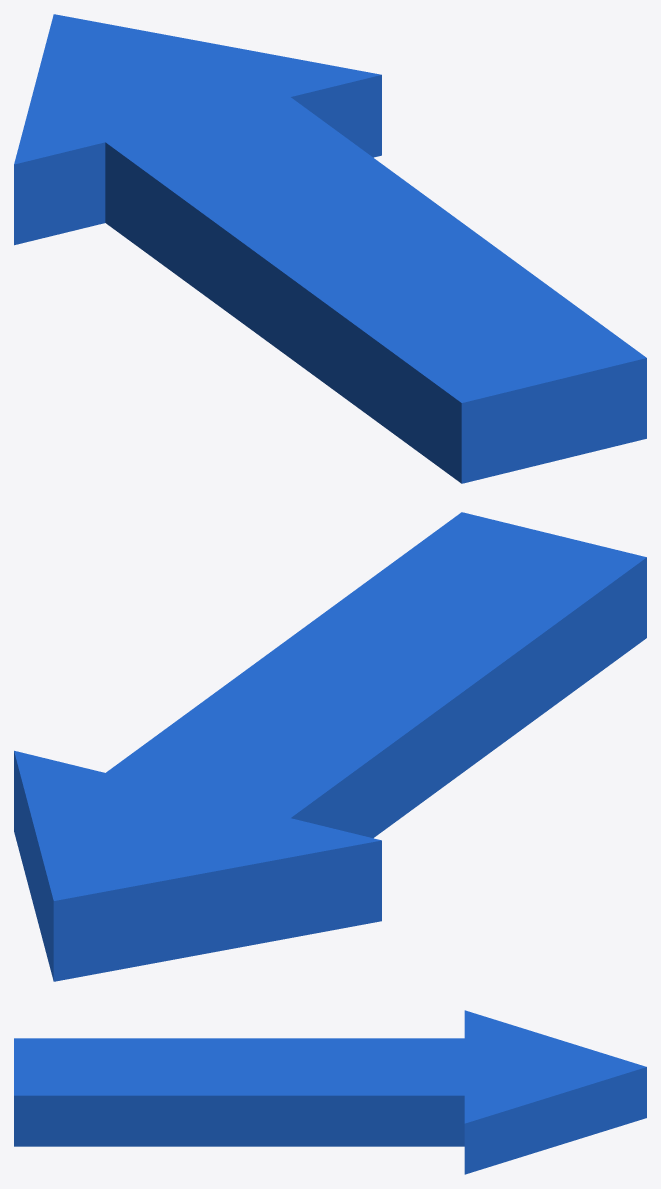
File: Pfeil5.glb
The picture shows the model from 3 angles, top to bottom: view 1: azimuth 30°, elevation 25°; view 2: azimuth 150°, elevation 25°; view 3: azimuth 270°, elevation 25°; orthographic projection. The views are drawn at different scales.
Parts seen in each view (by area): view 1: Plane; view 2: Plane; view 3: Plane.
Boxes of the visible parts, bbox=[...] form: Plane: bbox=[14, 14, 646, 483]; Plane: bbox=[14, 512, 646, 981]; Plane: bbox=[14, 1010, 646, 1174].
Size of the model in its own units: 1.19 by 0.25 by 2.81.
